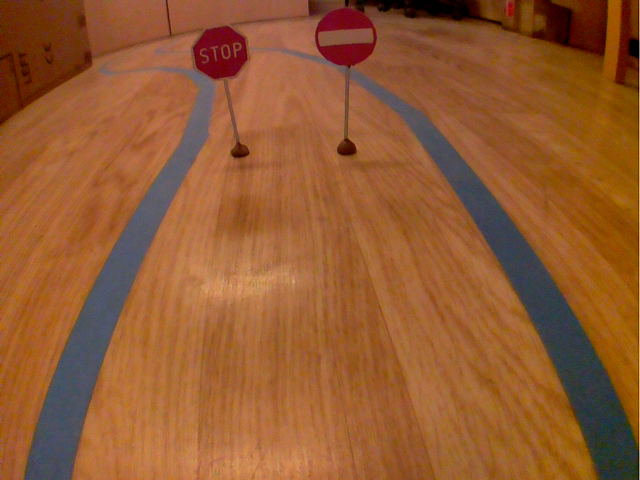Stop: (189, 22, 254, 85)
Zakaz: (311, 5, 380, 70)
